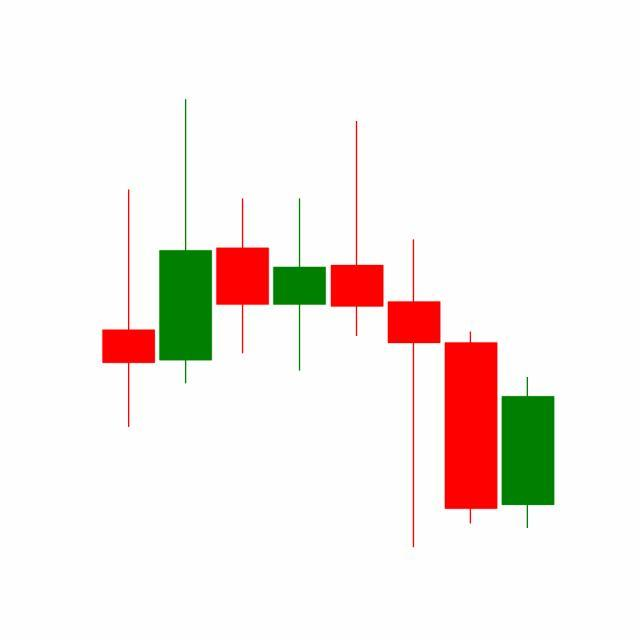Hikkake Pattern: (270, 116, 555, 548)
